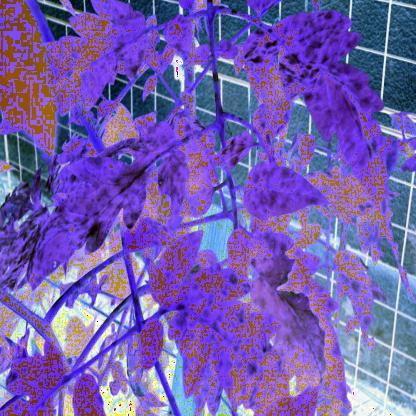Tomato mold leaf: (266, 18, 416, 286), (30, 120, 188, 293), (144, 230, 285, 408), (31, 2, 166, 107), (235, 160, 338, 218), (212, 131, 250, 170)
